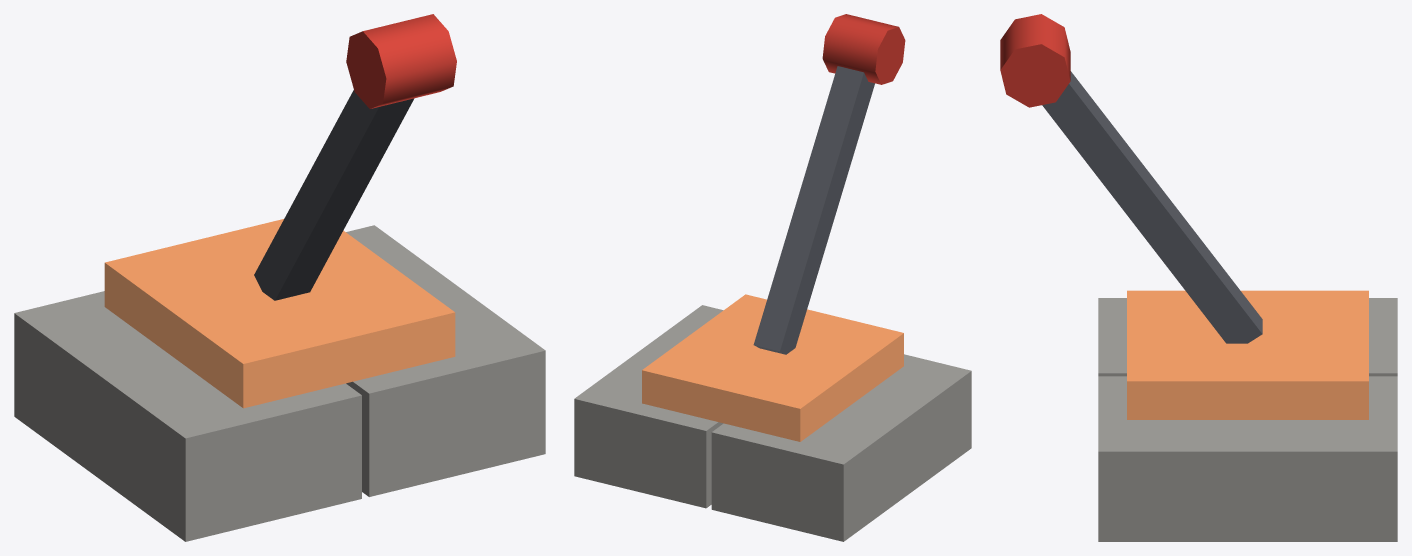
File: build_lever.glb
3 views of the same model, side by side, from view 1: azimuth 30°, elevation 25°; view 2: azimuth 150°, elevation 25°; view 3: azimuth 270°, elevation 25° (orthographic). The views are drawn at different scales.
Visible parts, largest first — view 1: Baked, _MeshInstance3D_231, _MeshInstance3D_232; view 2: Baked, _MeshInstance3D_231, _MeshInstance3D_232; view 3: Baked, _MeshInstance3D_231, _MeshInstance3D_232.
Boxes of the visible parts, x1=… form: Baked: x1=14, y1=219, x2=545, y2=541; _MeshInstance3D_231: x1=254, y1=90, x2=414, y2=300; _MeshInstance3D_232: x1=346, y1=14, x2=456, y2=108; Baked: x1=574, y1=294, x2=971, y2=541; _MeshInstance3D_231: x1=753, y1=66, x2=874, y2=354; _MeshInstance3D_232: x1=822, y1=14, x2=905, y2=84; Baked: x1=1098, y1=290, x2=1397, y2=541; _MeshInstance3D_231: x1=1042, y1=71, x2=1262, y2=343; _MeshInstance3D_232: x1=1000, y1=14, x2=1070, y2=107.
Bounding box in the file's own units: 0.51 × 0.6752 × 0.5575.
